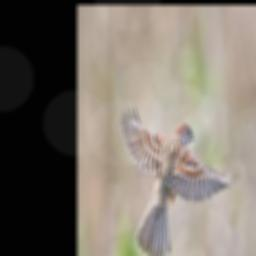Sparrow: (120, 102, 237, 256)
